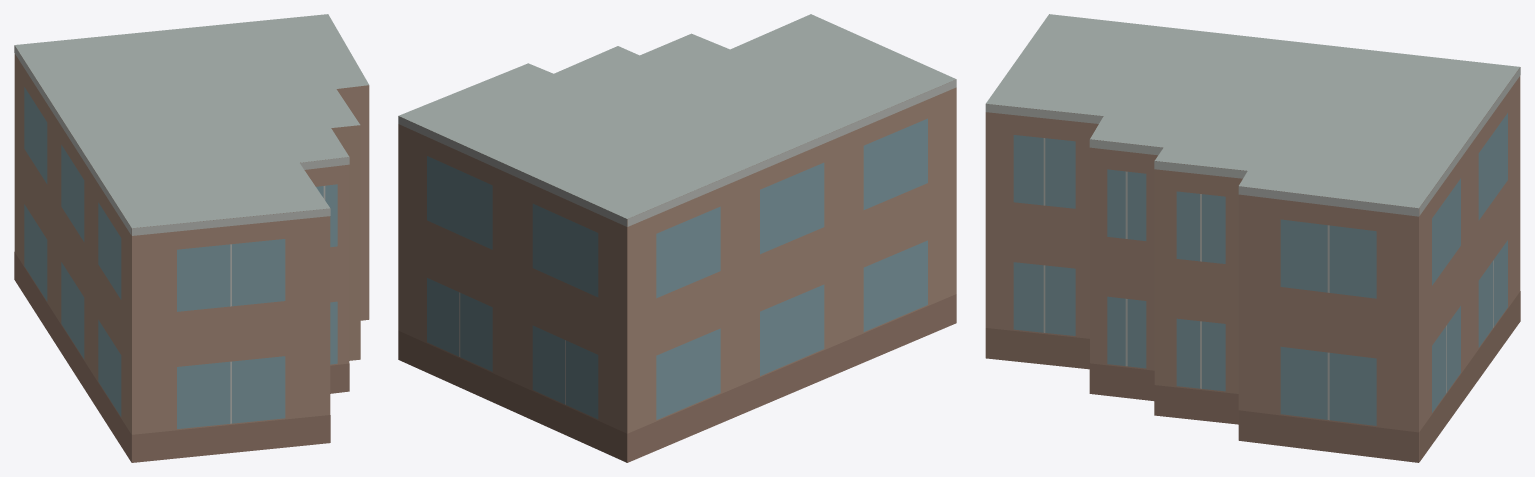
The model's file is survey-upis-32880283.glb.
The picture shows the model from 3 angles, left to right: view 1: azimuth 30°, elevation 25°; view 2: azimuth 150°, elevation 25°; view 3: azimuth 270°, elevation 25°; orthographic projection. The views are drawn at different scales.
Visible parts, largest first — view 1: survey-upis-32880283.tmp; view 2: survey-upis-32880283.tmp; view 3: survey-upis-32880283.tmp.
Boxes of the visible parts, <box> form: survey-upis-32880283.tmp: <box>14,14,369,462</box>; survey-upis-32880283.tmp: <box>398,14,956,462</box>; survey-upis-32880283.tmp: <box>985,14,1520,462</box>.
Size of the model in its own units: 12.12 by 7.4 by 14.1.
